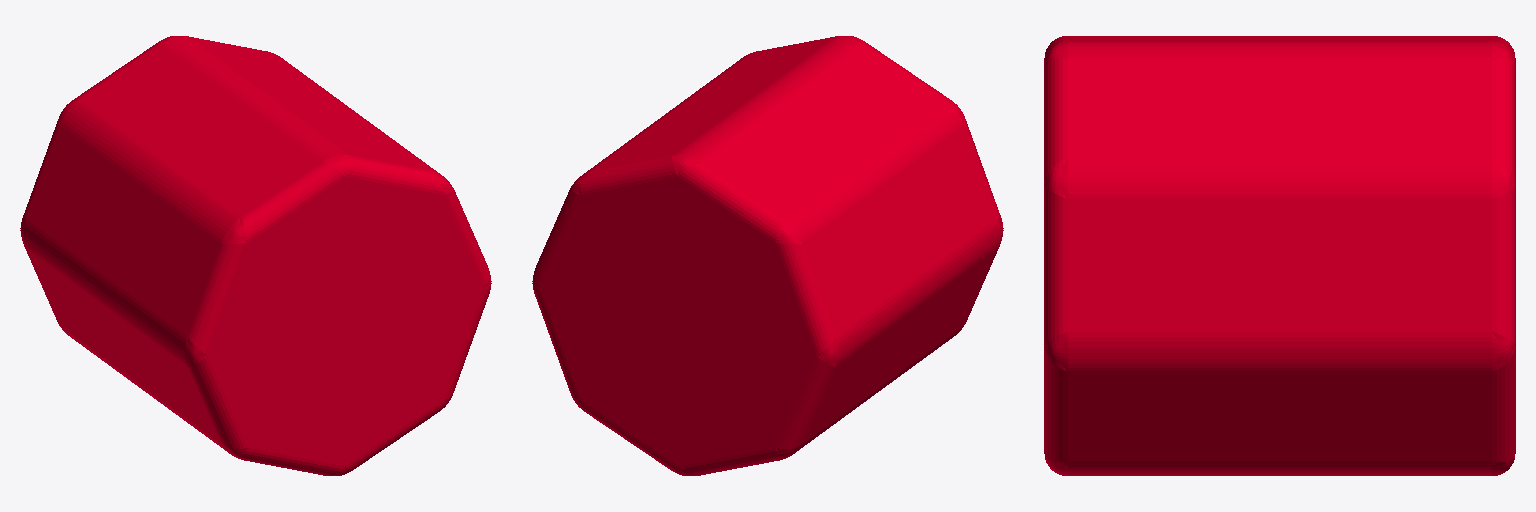
The robot description file, URDF, robot "octagonal_prism.urdf":
<?xml version="1.0" ?>
<robot name="octagonal_prism.urdf">

  <link name="octagonal_prism">
    <contact>
    	<friction_anchor/>
    	   <lateral_friction value="1.0"/>
    </contact>
    <inertial>
      <origin rpy="0 0 0" xyz="0 0 0"/>
       <mass value=".1"/>
       <inertia ixx="1" ixy="0" ixz="0" iyy="1" iyz="0" izz="1"/>
    </inertial>
    <visual>
      <origin rpy="0 0 0" xyz="0 0 0"/>
      <geometry>
				<mesh filename="octagonal_prism_rounded.obj" scale="1.0 1.0 1.0"/>
      </geometry>
       <material name="red">
        <color rgba="0.9 0 0.2 1.0"/>
      </material>
    </visual>
    <collision>
      <origin rpy="0 0 0" xyz="0 0 0"/>
      <geometry>
				<mesh filename="octagonal_prism_rounded.obj" scale="1.0 1.0 1.0"/>
      </geometry>
    </collision>
  </link>


</robot>

--- What the picture shows (computed from the rendered views, not written in the file) ---
Views: 3 orthographic renders of the robot side by side, from view 1: azimuth 30°, elevation 25°; view 2: azimuth 150°, elevation 25°; view 3: azimuth 270°, elevation 25°.
Robot: octagonal_prism.urdf — 1 links, 0 joints (none); root link octagonal_prism; default pose: all joints at 0.
Links seen in each view (by area): view 1: octagonal_prism; view 2: octagonal_prism; view 3: octagonal_prism.
Boxes of the visible links, bbox=[...] form: octagonal_prism: bbox=[20, 36, 491, 475]; octagonal_prism: bbox=[532, 36, 1003, 475]; octagonal_prism: bbox=[1044, 36, 1515, 475].
Bounding box of the posed robot: 0.0978 × 0.1 × 0.0978 m (x, y, z).
1 mesh visuals loaded from 1 distinct referenced files (1 OBJ).